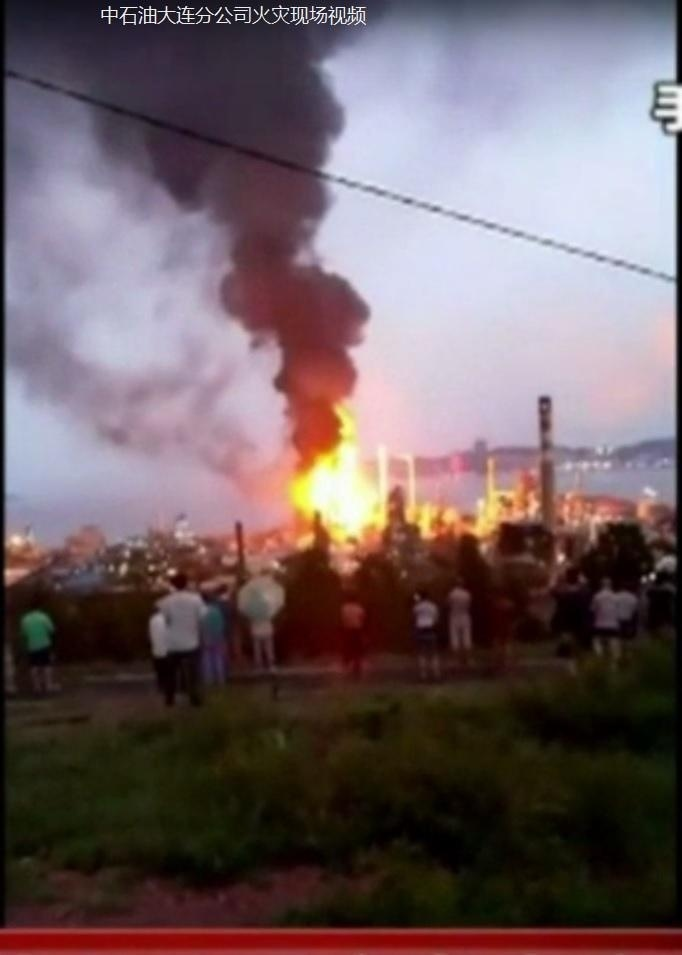fire: (283, 404, 389, 544), (403, 455, 537, 537)
